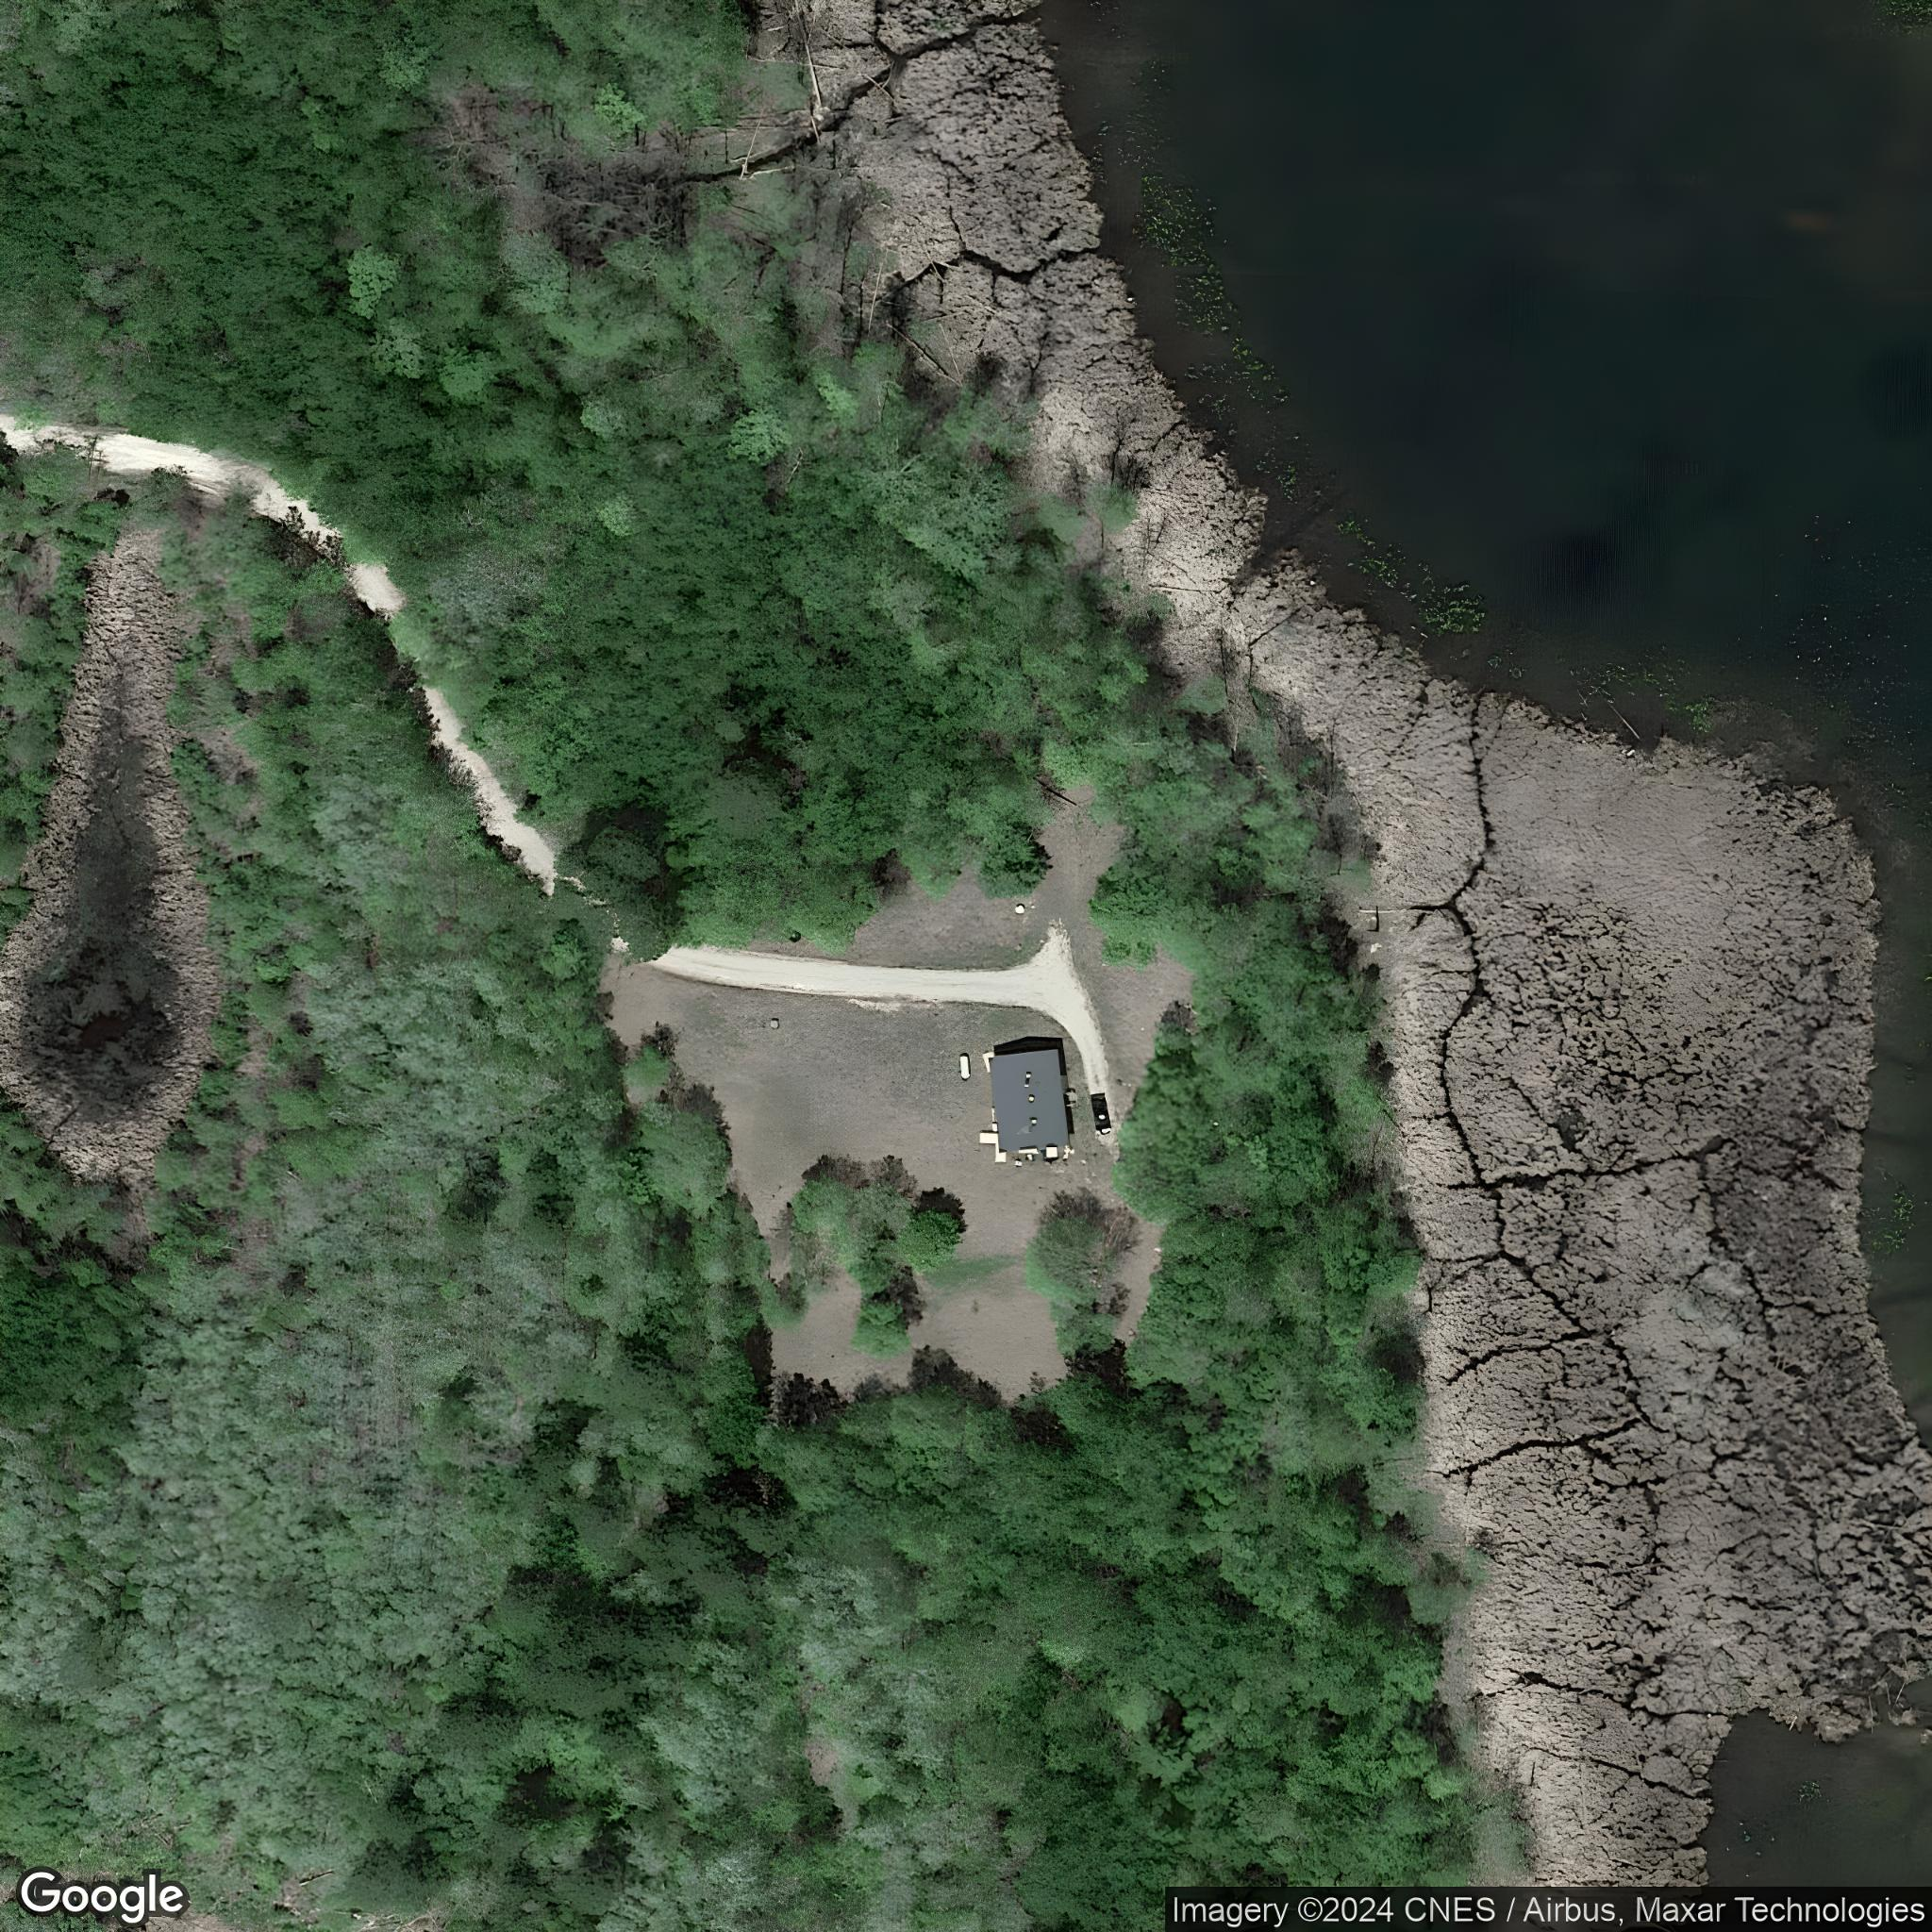House: (987, 1046, 1072, 1154)
Propane: (957, 1051, 975, 1083)
